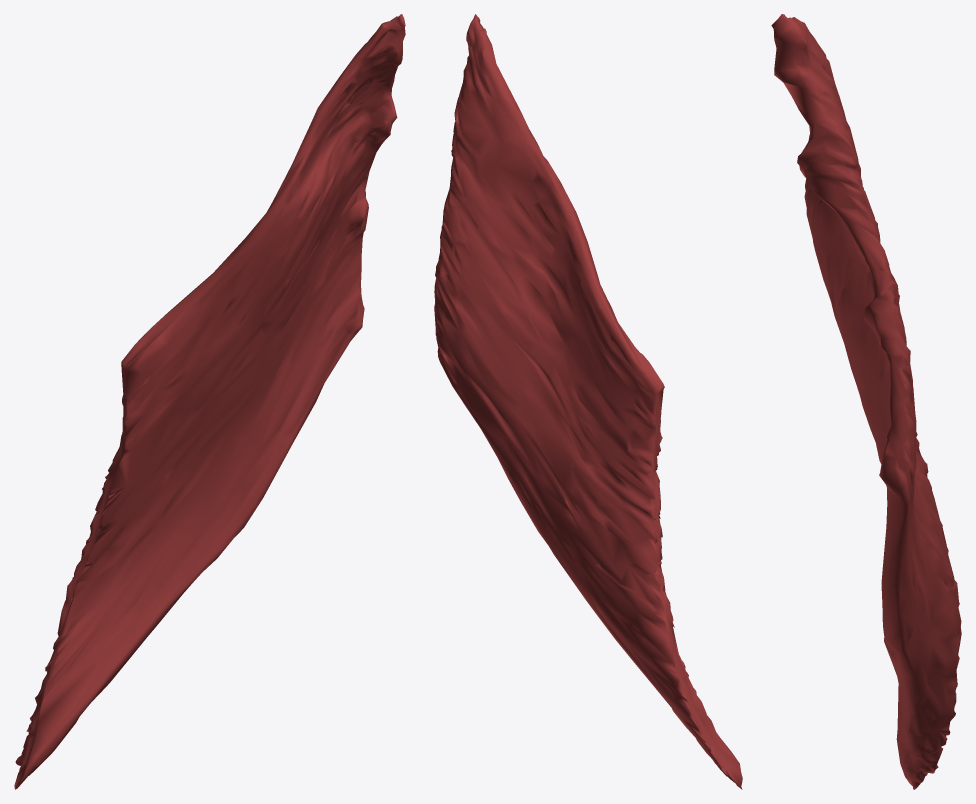
The model's file is rhomboid-major-muscle-r.glb.
3 views of the same model, side by side, from view 1: azimuth 30°, elevation 25°; view 2: azimuth 150°, elevation 25°; view 3: azimuth 270°, elevation 25° (orthographic). The views are drawn at different scales.
Visible parts, largest first — view 1: Rhomboid major muscle.r; view 2: Rhomboid major muscle.r; view 3: Rhomboid major muscle.r.
Boxes of the visible parts, bbox=[...] form: Rhomboid major muscle.r: bbox=[14, 14, 405, 789]; Rhomboid major muscle.r: bbox=[434, 14, 742, 789]; Rhomboid major muscle.r: bbox=[771, 14, 961, 789].
Size of the model in its own units: 0.0885 by 0.1801 by 0.0309.
